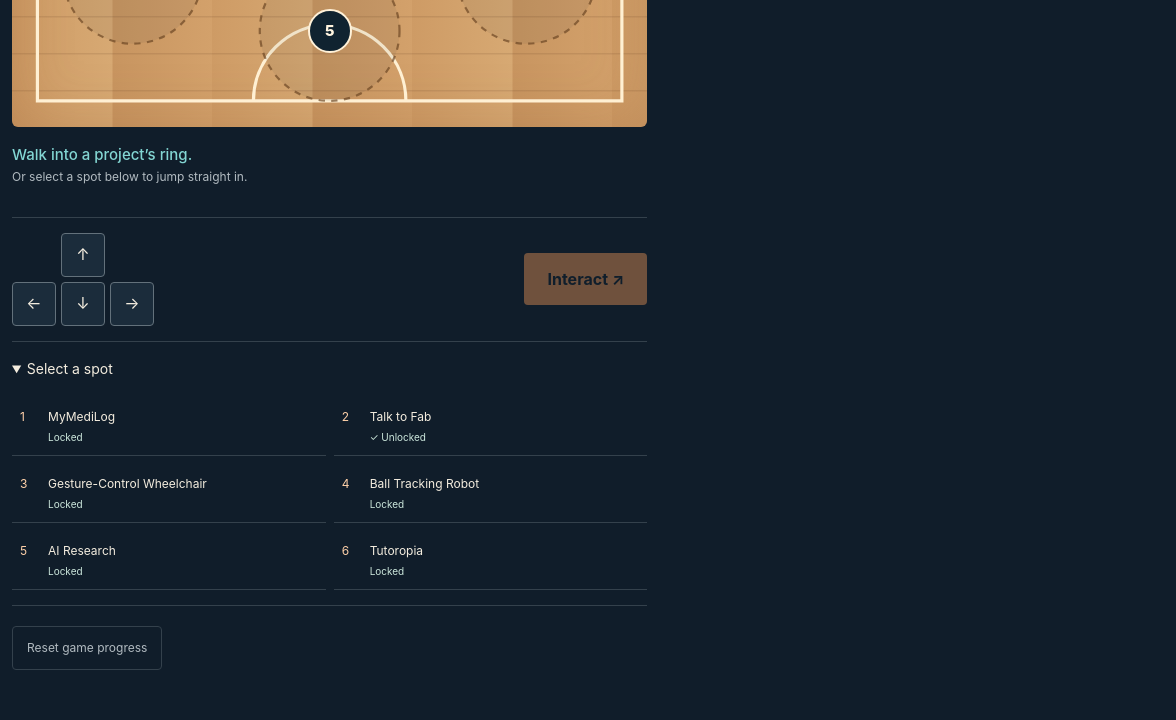
Test: shooting UI › reset requires explicit confirmation and cancellation preserves progress
(page scrolled)
Click the button "Reset game progress" at (87, 648), box left=12, top=626, right=162, bottom=670
(page scrolled)
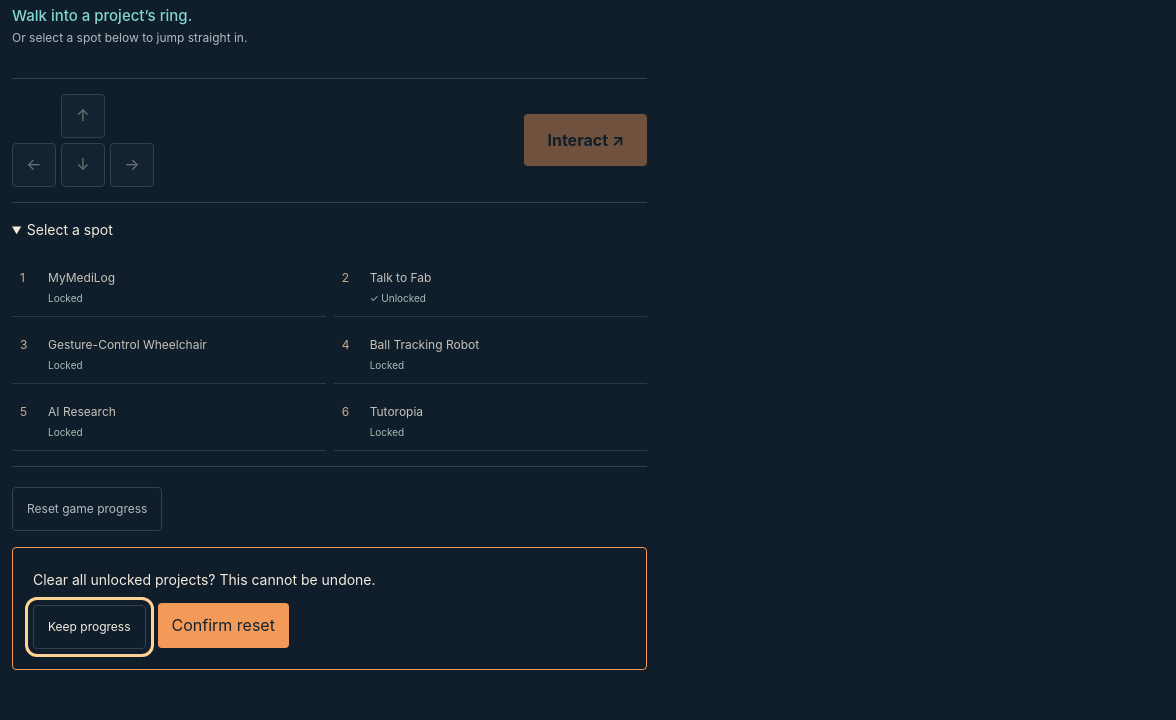
Click the button "Keep progress" at (89, 627), box left=33, top=605, right=146, bottom=649
(page scrolled)
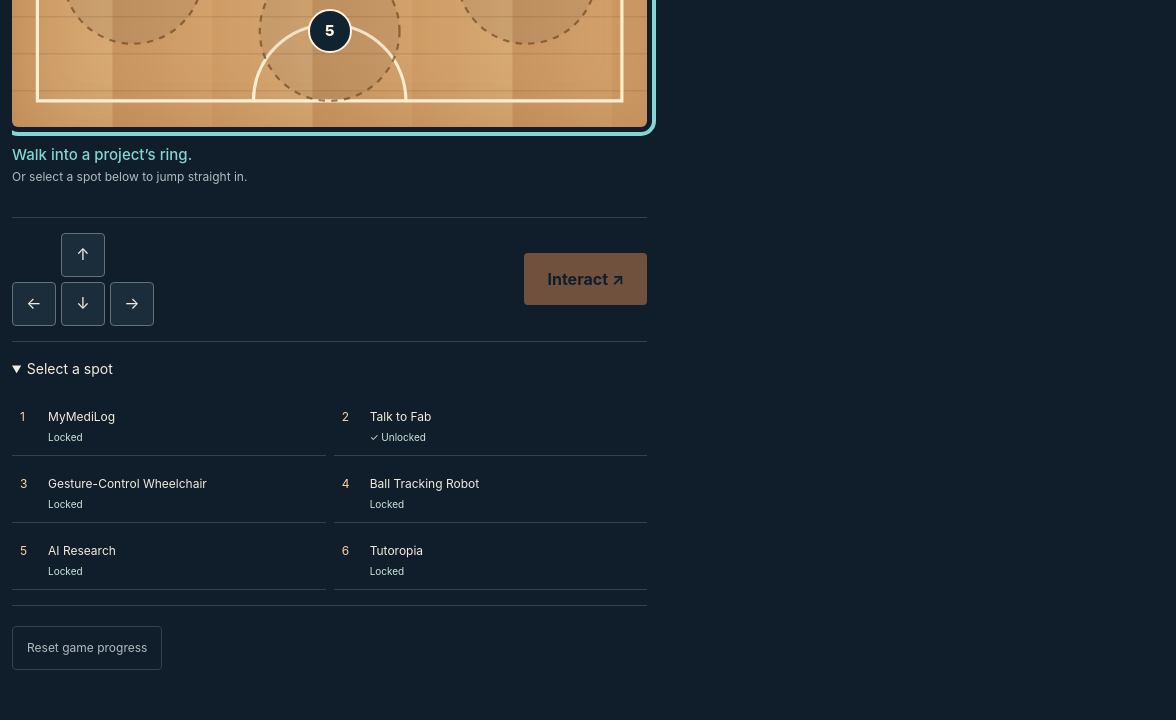
Click the button "Reset game progress" at (87, 648), box left=12, top=626, right=162, bottom=670
(page scrolled)
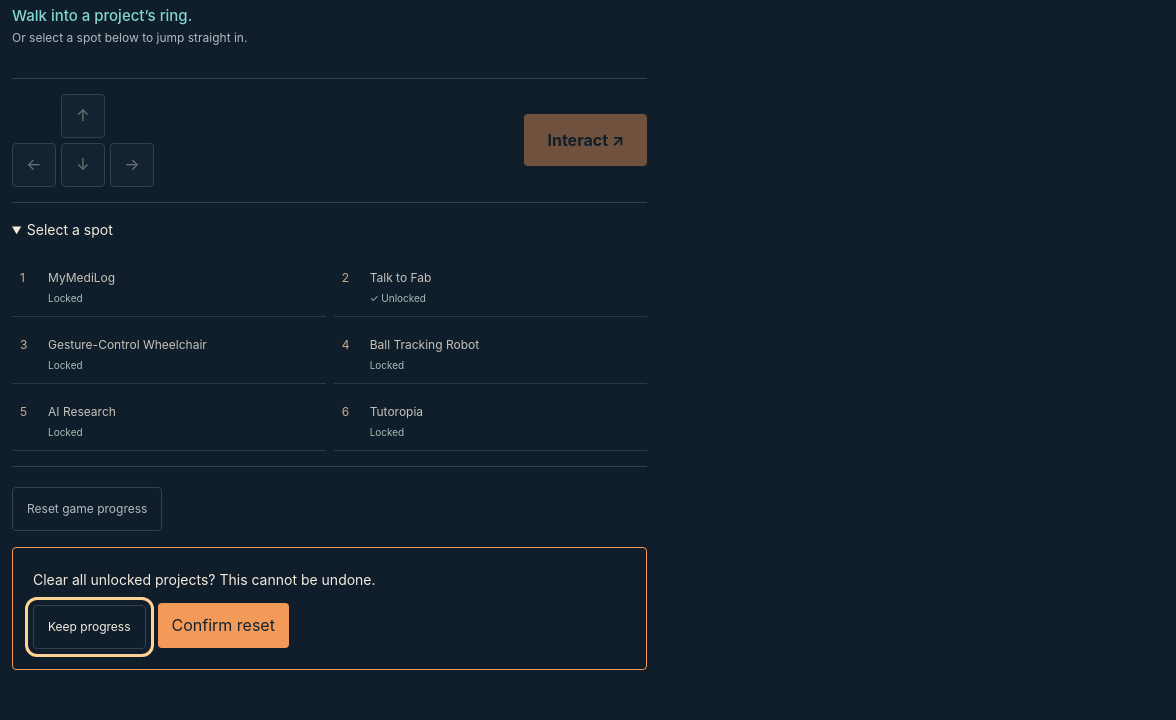
Click the button "Confirm reset" at (223, 626), box left=158, top=603, right=289, bottom=648
(page scrolled)
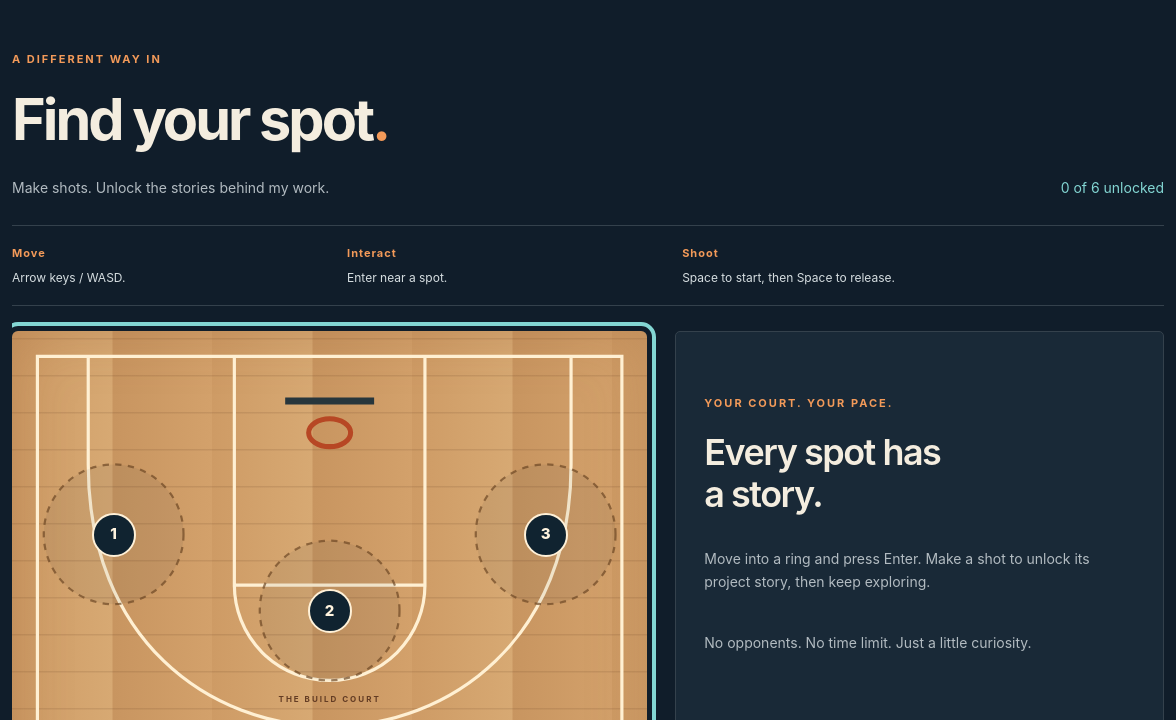
Expected: the text "0 of 6 unlocked" is shown, left=1061, top=176, right=1164, bottom=199
